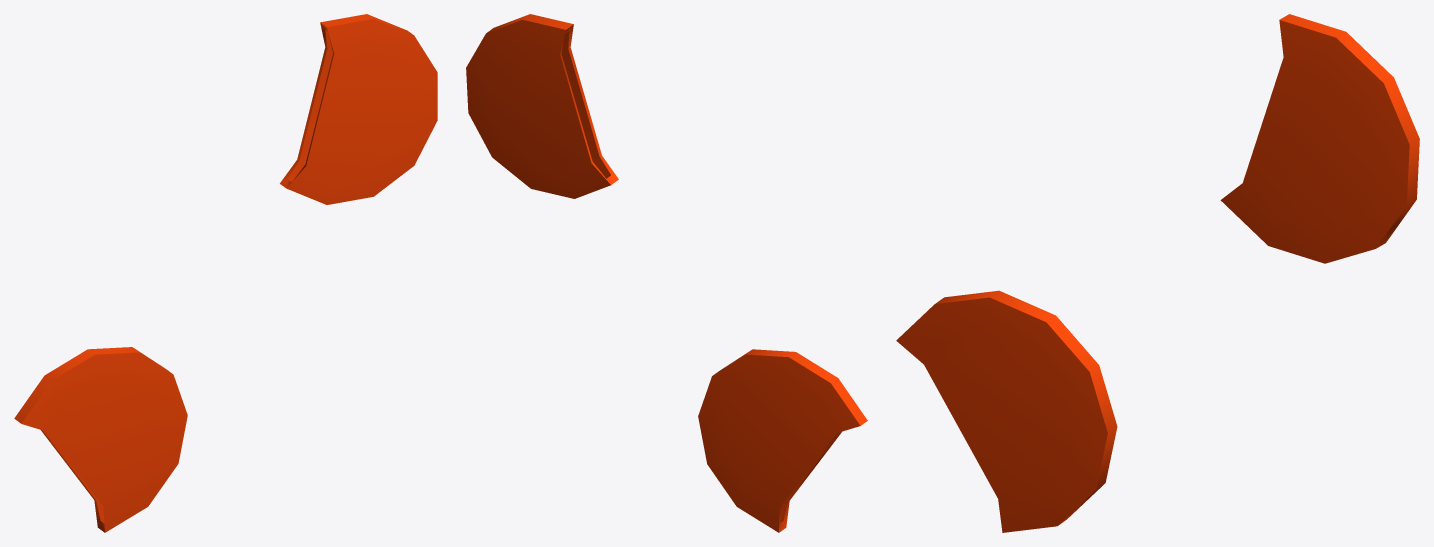
The model's file is MeshKeychain1_0_GeomSubset_2.obj.
3 views of the same model, side by side, from view 1: azimuth 30°, elevation 25°; view 2: azimuth 150°, elevation 25°; view 3: azimuth 330°, elevation 25° (orthographic). The views are drawn at different scales.
Visible parts, largest first — view 1: MeshKeychain1_0_GeomSubset_2; view 2: MeshKeychain1_0_GeomSubset_2; view 3: MeshKeychain1_0_GeomSubset_2.
Boxes of the visible parts, x1,y1,x2,y2 form: MeshKeychain1_0_GeomSubset_2: [14, 14, 437, 532]; MeshKeychain1_0_GeomSubset_2: [466, 14, 867, 532]; MeshKeychain1_0_GeomSubset_2: [896, 14, 1419, 532].
Bounding box in the file's own units: 0.05 × 0.0531 × 0.00396.
